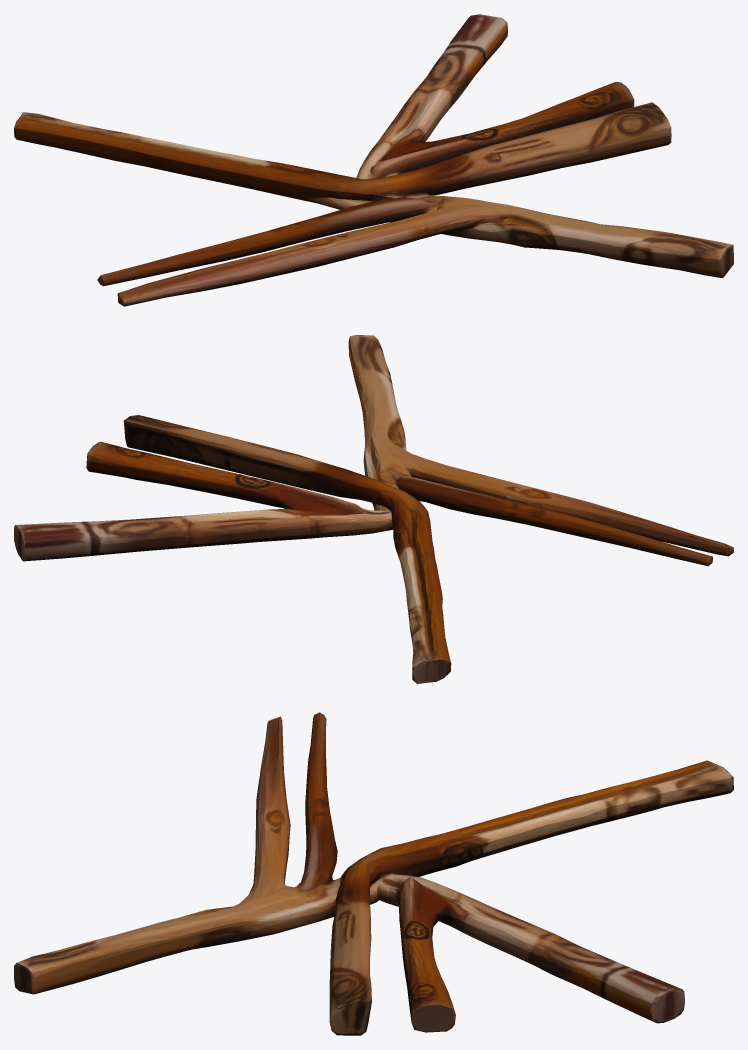
File: wooden-chopsticks-futuristic.jpeg.glb
The picture shows the model from 3 angles, top to bottom: view 1: azimuth 30°, elevation 25°; view 2: azimuth 150°, elevation 25°; view 3: azimuth 270°, elevation 25°; orthographic projection. The views are drawn at different scales.
Visible parts, largest first — view 1: world; view 2: world; view 3: world.
Part boxes in pixels (left/top/right/bottom): world: left=14, top=14, right=733, bottom=306; world: left=14, top=335, right=733, bottom=683; world: left=14, top=712, right=733, bottom=1035.
Bounding box in the file's own units: 1 × 0.0727 × 0.9913.
Materials: 1 (1 with a texture image).
